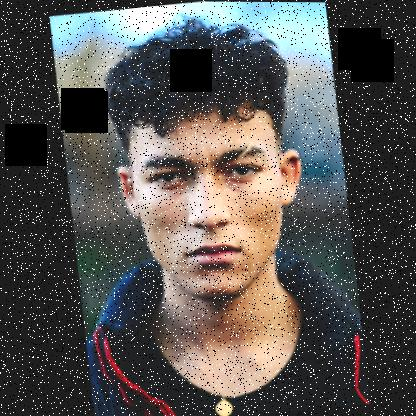Male: (113, 96, 315, 305)
